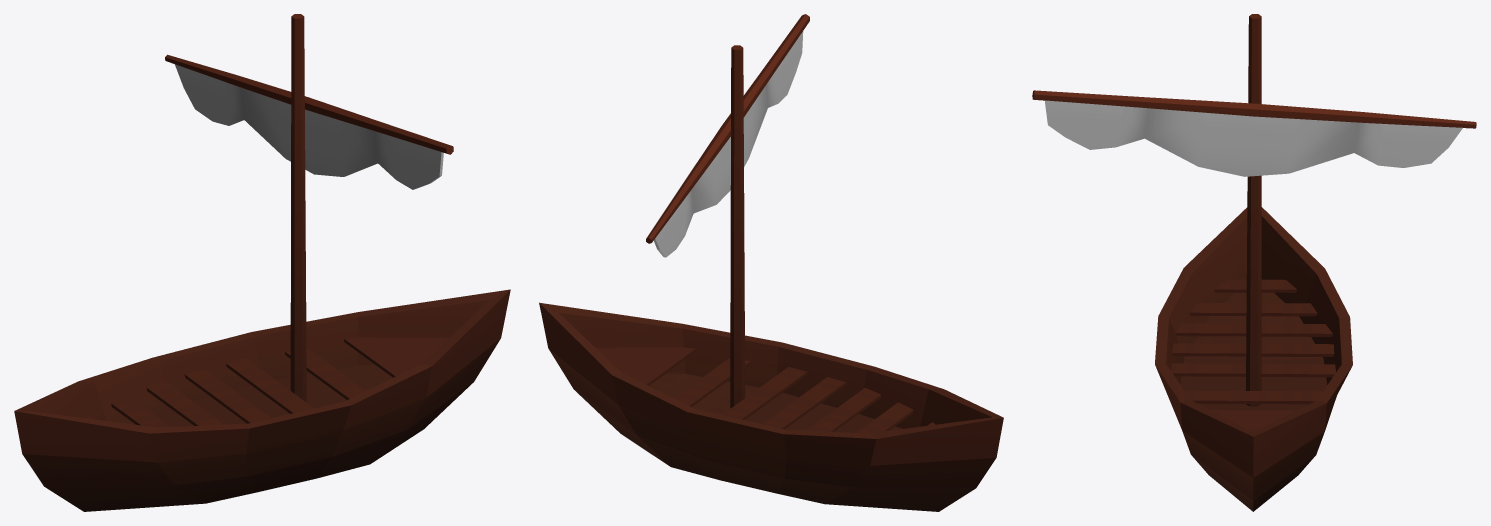
Rendered from FBX_BoatSail.fbx.
3 views of the same model, side by side, from view 1: azimuth 30°, elevation 25°; view 2: azimuth 150°, elevation 25°; view 3: azimuth 270°, elevation 25° (orthographic). The views are drawn at different scales.
Parts seen in each view (by area): view 1: M_BoatSail; view 2: M_BoatSail; view 3: M_BoatSail.
Part boxes in pixels (left/top/right/bottom): M_BoatSail: left=14, top=14, right=510, bottom=511; M_BoatSail: left=539, top=14, right=1003, bottom=511; M_BoatSail: left=1032, top=14, right=1476, bottom=511.
Size of the model in its own units: 7.05 by 6.02 by 5.56.
